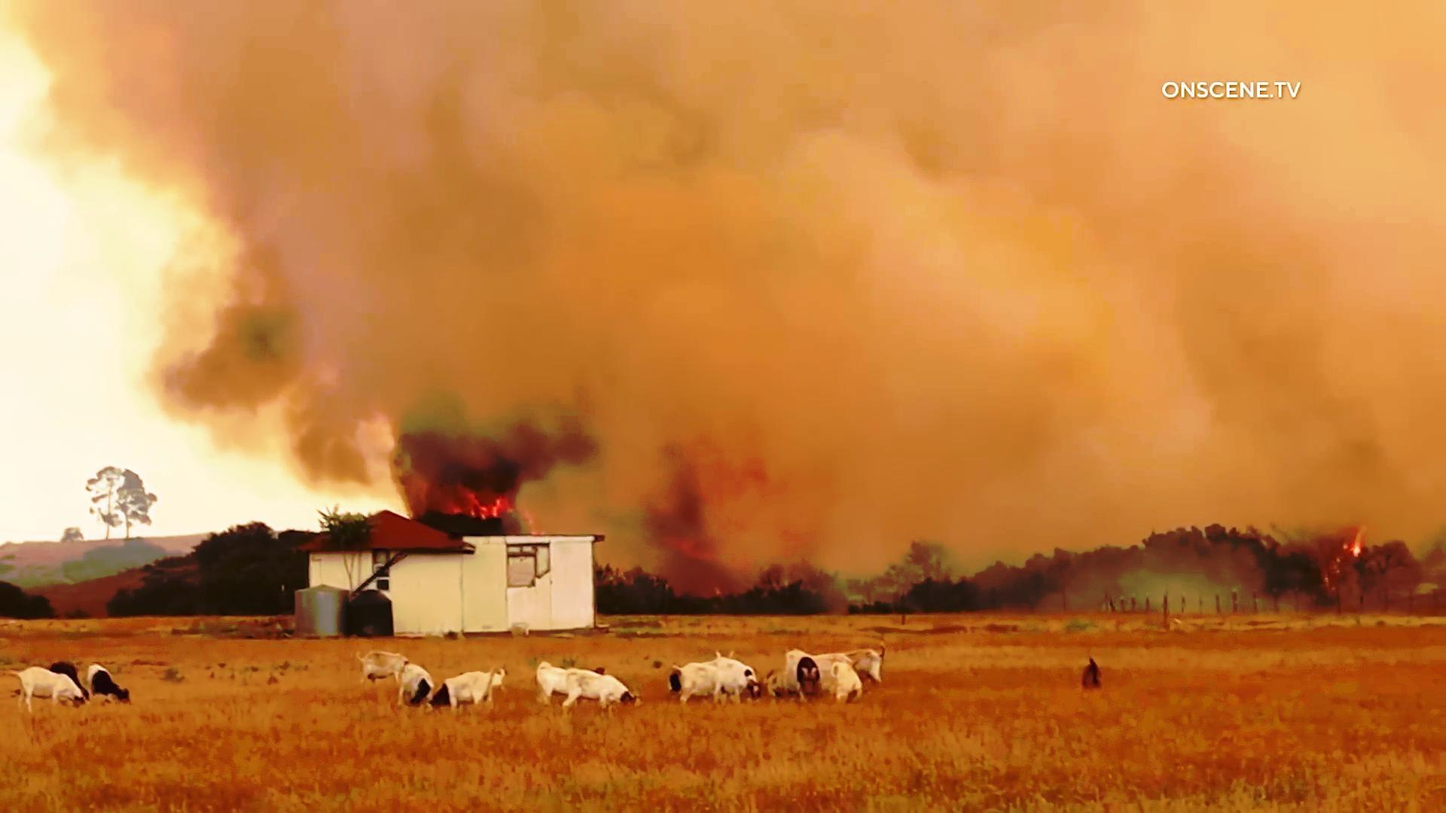fire: (1317, 508, 1383, 580), (456, 483, 540, 527)
smoke: (714, 118, 1394, 458)
